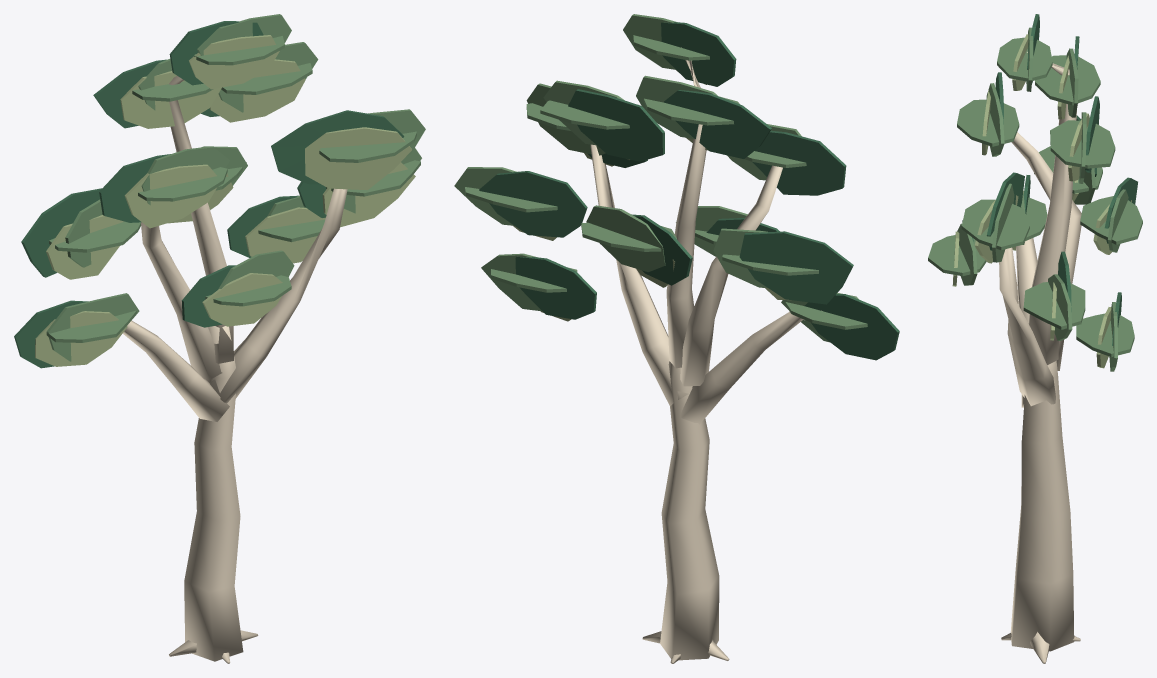
The model's file is TREE_EUCALYPTUS_001_v004_LOD_MAP.glb.
The picture shows the model from 3 angles, left to right: view 1: azimuth 30°, elevation 25°; view 2: azimuth 150°, elevation 25°; view 3: azimuth 270°, elevation 25°; orthographic projection.
Parts seen in each view (by area): view 1: TREE_EUCALYPTUS_001_MAP_LAYERED_PAPERCUT_MASSES, TREE_EUCALYPTUS_001_MAP_SCULPTURAL_LIMB_0, TREE_EUCALYPTUS_001_MAP_SCULPTURAL_LIMB_4, TREE_EUCALYPTUS_001_MAP_SCULPTURAL_LIMB_2, TREE_EUCALYPTUS_001_MAP_SCULPTURAL_LIMB_1, TREE_EUCALYPTUS_001_MAP_SCULPTURAL_LIMB_3; view 2: TREE_EUCALYPTUS_001_MAP_LAYERED_PAPERCUT_MASSES, TREE_EUCALYPTUS_001_MAP_SCULPTURAL_LIMB_0, TREE_EUCALYPTUS_001_MAP_SCULPTURAL_LIMB_2, TREE_EUCALYPTUS_001_MAP_SCULPTURAL_LIMB_4, TREE_EUCALYPTUS_001_MAP_SCULPTURAL_LIMB_3, TREE_EUCALYPTUS_001_MAP_SCULPTURAL_LIMB_1; view 3: TREE_EUCALYPTUS_001_MAP_LAYERED_PAPERCUT_MASSES, TREE_EUCALYPTUS_001_MAP_SCULPTURAL_LIMB_0, TREE_EUCALYPTUS_001_MAP_SCULPTURAL_LIMB_3, TREE_EUCALYPTUS_001_MAP_SCULPTURAL_LIMB_4, TREE_EUCALYPTUS_001_MAP_SCULPTURAL_LIMB_2, TREE_EUCALYPTUS_001_MAP_SCULPTURAL_LIMB_1, TREE_EUCALYPTUS_001_MAP_ROOT_FLARE_0.
Part boxes in pixels (left/top/right/bottom): TREE_EUCALYPTUS_001_MAP_LAYERED_PAPERCUT_MASSES: left=14, top=14, right=425, bottom=368; TREE_EUCALYPTUS_001_MAP_SCULPTURAL_LIMB_0: left=184, top=326, right=243, bottom=661; TREE_EUCALYPTUS_001_MAP_SCULPTURAL_LIMB_4: left=210, top=188, right=347, bottom=403; TREE_EUCALYPTUS_001_MAP_SCULPTURAL_LIMB_2: left=141, top=222, right=222, bottom=379; TREE_EUCALYPTUS_001_MAP_SCULPTURAL_LIMB_1: left=123, top=320, right=229, bottom=421; TREE_EUCALYPTUS_001_MAP_SCULPTURAL_LIMB_3: left=169, top=76, right=233, bottom=363; TREE_EUCALYPTUS_001_MAP_LAYERED_PAPERCUT_MASSES: left=454, top=14, right=899, bottom=360; TREE_EUCALYPTUS_001_MAP_SCULPTURAL_LIMB_0: left=660, top=361, right=719, bottom=660; TREE_EUCALYPTUS_001_MAP_SCULPTURAL_LIMB_2: left=680, top=165, right=782, bottom=386; TREE_EUCALYPTUS_001_MAP_SCULPTURAL_LIMB_4: left=590, top=144, right=688, bottom=405; TREE_EUCALYPTUS_001_MAP_SCULPTURAL_LIMB_3: left=666, top=47, right=706, bottom=368; TREE_EUCALYPTUS_001_MAP_SCULPTURAL_LIMB_1: left=680, top=310, right=821, bottom=424; TREE_EUCALYPTUS_001_MAP_LAYERED_PAPERCUT_MASSES: left=928, top=14, right=1142, bottom=371; TREE_EUCALYPTUS_001_MAP_SCULPTURAL_LIMB_0: left=1010, top=323, right=1074, bottom=651; TREE_EUCALYPTUS_001_MAP_SCULPTURAL_LIMB_3: left=1027, top=52, right=1076, bottom=364; TREE_EUCALYPTUS_001_MAP_SCULPTURAL_LIMB_4: left=999, top=247, right=1055, bottom=406; TREE_EUCALYPTUS_001_MAP_SCULPTURAL_LIMB_2: left=1011, top=132, right=1081, bottom=370; TREE_EUCALYPTUS_001_MAP_SCULPTURAL_LIMB_1: left=1016, top=238, right=1037, bottom=407; TREE_EUCALYPTUS_001_MAP_ROOT_FLARE_0: left=1030, top=632, right=1049, bottom=663.
Size of the model in its own units: 10.02 by 14.05 by 4.41.
